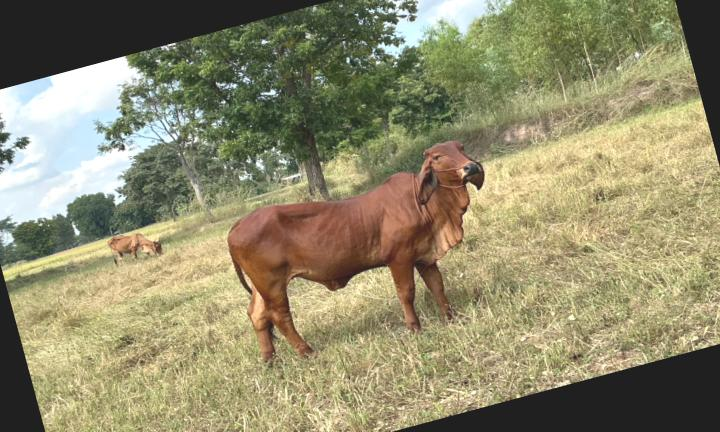Brahman: (228, 140, 484, 358)
